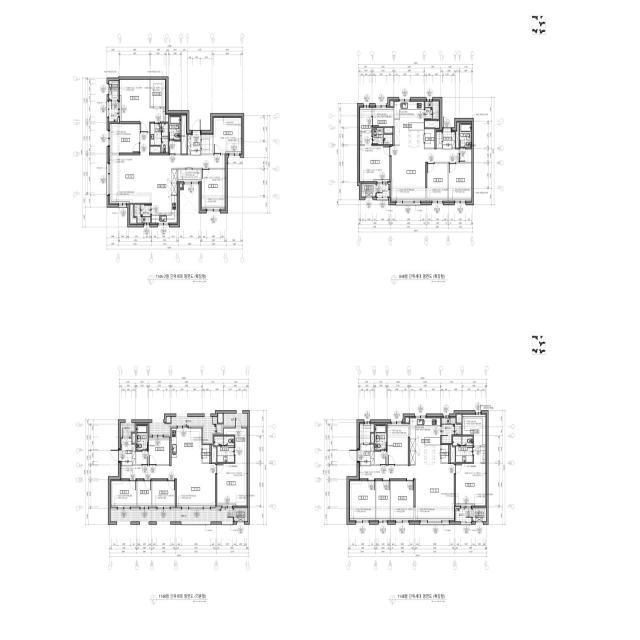space_balconi: (149, 417, 222, 445), (111, 508, 233, 522), (224, 413, 247, 427), (134, 205, 151, 223), (425, 102, 439, 119), (121, 422, 135, 437), (456, 509, 472, 522), (109, 101, 118, 122), (377, 184, 390, 197)
space_bedroom: (120, 80, 165, 132), (456, 447, 486, 506), (217, 464, 247, 506), (360, 146, 390, 181), (349, 481, 375, 520), (214, 117, 242, 153), (202, 170, 226, 209), (391, 481, 414, 520), (449, 164, 472, 201), (110, 124, 139, 153), (388, 424, 408, 464), (427, 164, 448, 201), (111, 481, 136, 507), (152, 481, 175, 507), (149, 437, 169, 464)
space_dressroom: (223, 428, 247, 464), (463, 415, 486, 446), (360, 108, 372, 145), (150, 80, 165, 107)
space_front: (121, 439, 135, 466), (358, 444, 374, 466), (188, 133, 201, 155), (443, 132, 455, 149)
space_kitchen: (394, 102, 424, 149), (410, 418, 440, 465), (152, 169, 177, 223), (171, 428, 202, 465)
space_living_room: (110, 133, 226, 203), (359, 464, 454, 520), (121, 464, 215, 507), (391, 146, 459, 201)
space_other: (376, 481, 390, 520), (372, 108, 393, 127), (137, 481, 151, 507), (359, 424, 374, 443), (178, 169, 201, 181), (202, 134, 213, 153), (182, 116, 187, 154), (425, 129, 435, 148), (169, 141, 181, 154), (375, 452, 387, 464), (136, 452, 148, 464), (460, 149, 471, 162), (441, 445, 448, 463), (203, 445, 209, 463), (130, 205, 136, 223), (425, 121, 439, 128), (436, 132, 442, 148), (456, 123, 459, 148), (451, 445, 455, 462), (212, 445, 216, 462), (457, 414, 462, 423), (218, 414, 223, 423), (384, 128, 393, 133), (371, 434, 374, 443), (132, 434, 135, 443), (166, 417, 170, 423), (166, 114, 168, 122), (406, 418, 409, 423), (390, 101, 393, 106), (180, 184, 182, 187)
space_outdoor_room: (361, 184, 376, 197), (473, 508, 486, 522), (234, 508, 247, 522), (109, 81, 118, 100)
space_toilet: (150, 124, 168, 153), (442, 418, 462, 444), (453, 436, 473, 462), (214, 436, 234, 462), (373, 128, 392, 144), (136, 425, 148, 450), (169, 116, 181, 141), (375, 425, 386, 450), (460, 124, 471, 148)
